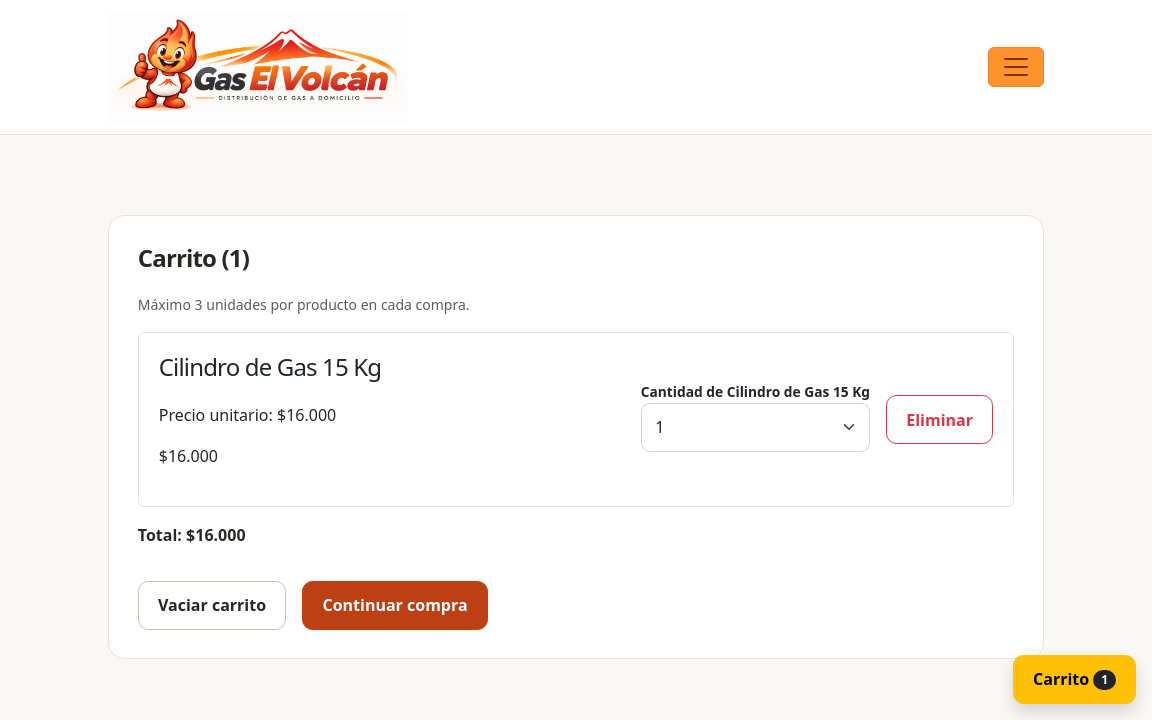
Test: recupera productos en la ruta Carrito y permite cambiar cantidad y vaciar
The width and height of the screenshot is (1152, 720).
Expected: the heading "Cilindro de Gas 15 Kg" is shown, 159,353 -> 381,382
Select "2" in the dropdown at (755, 428), box 641,403 -> 870,452
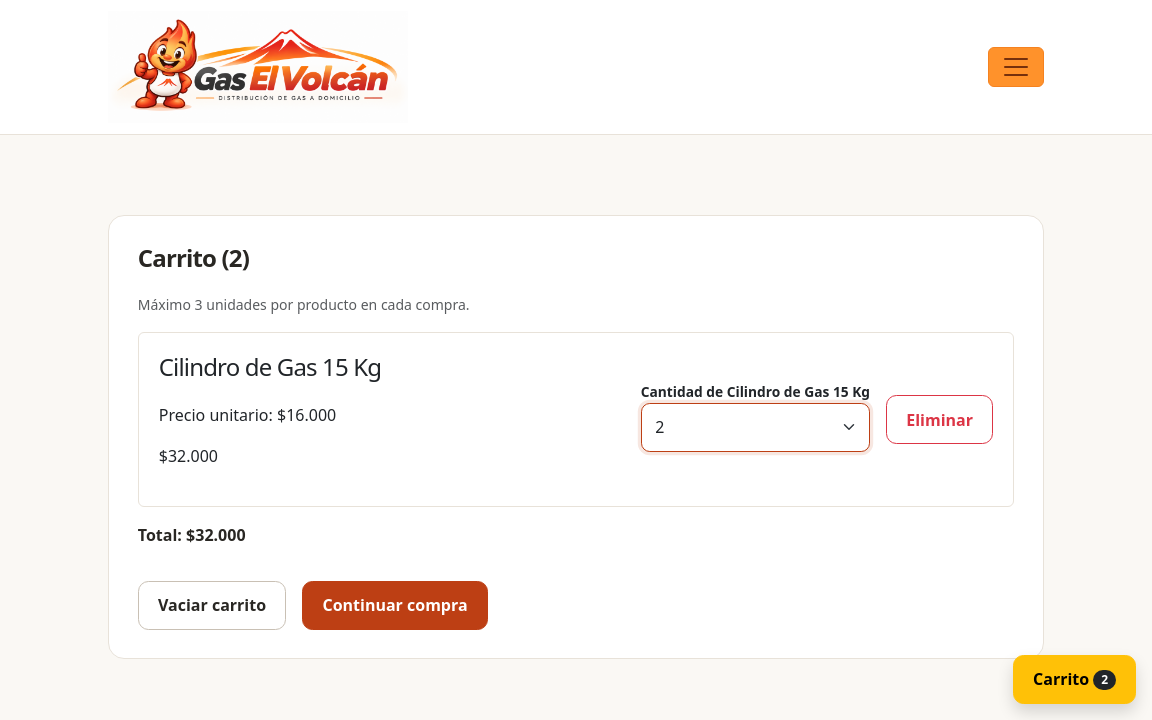
Expected: the text "Total: $32.000" is shown, 138,524 -> 246,546
Expected: the button "Carrito 2" is shown, 1013,655 -> 1136,704
Click the button "Vaciar carrito" at (212, 605), box 138,581 -> 286,630
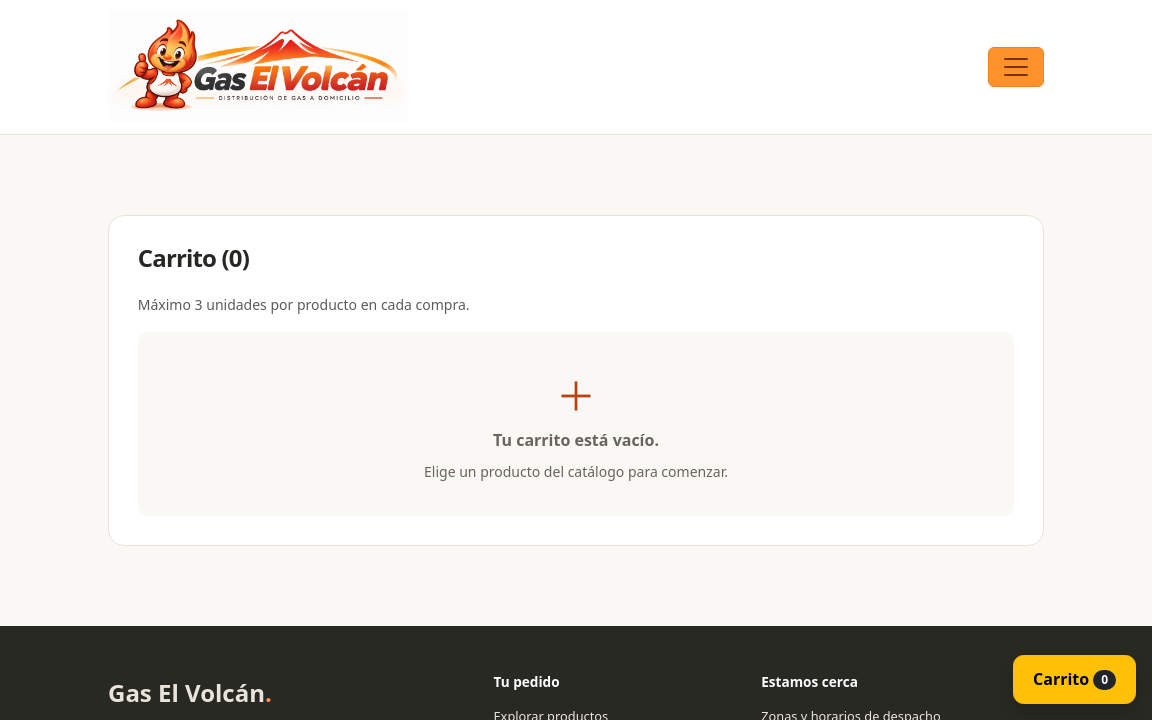
Expected: the text "Tu carrito está vacío." is shown, 493,429 -> 659,451
